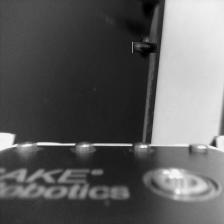Lock: (136, 38, 154, 57)
